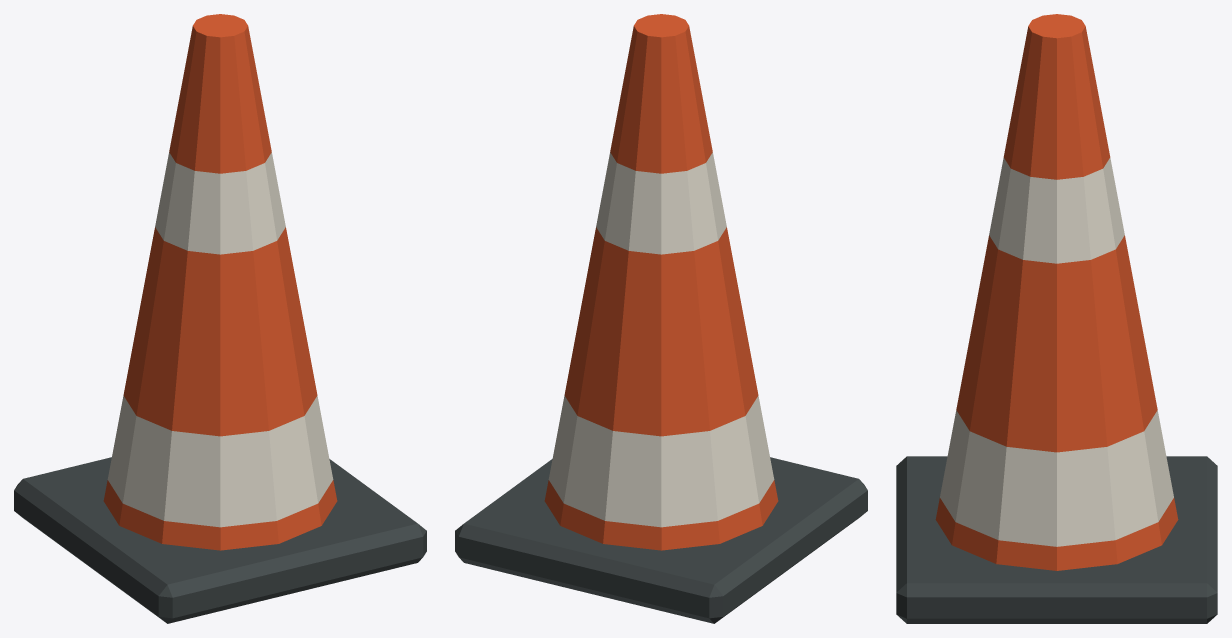
File: traffic_cone.glb
3 views of the same model, side by side, from view 1: azimuth 30°, elevation 25°; view 2: azimuth 150°, elevation 25°; view 3: azimuth 270°, elevation 25° (orthographic). The views are drawn at different scales.
Visible parts, largest first — view 1: Dark chamfered base; view 2: Dark chamfered base; view 3: Dark chamfered base.
Part boxes in pixels (<box>): Dark chamfered base: <box>14,14,426,623</box>; Dark chamfered base: <box>455,14,867,623</box>; Dark chamfered base: <box>896,14,1217,623</box>.
Bounding box in the file's own units: 0.3 × 0.55 × 0.3.
